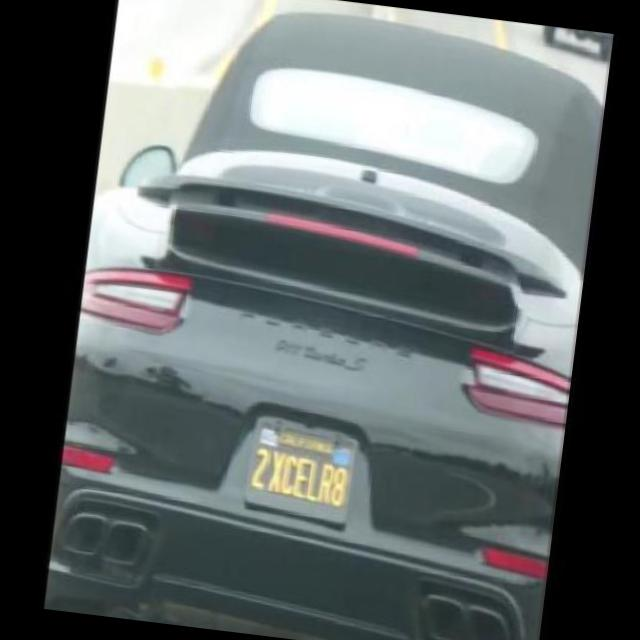LicensePlate: (244, 417, 360, 517)
